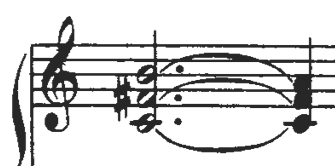treble_clef: (35, 13, 89, 139)
